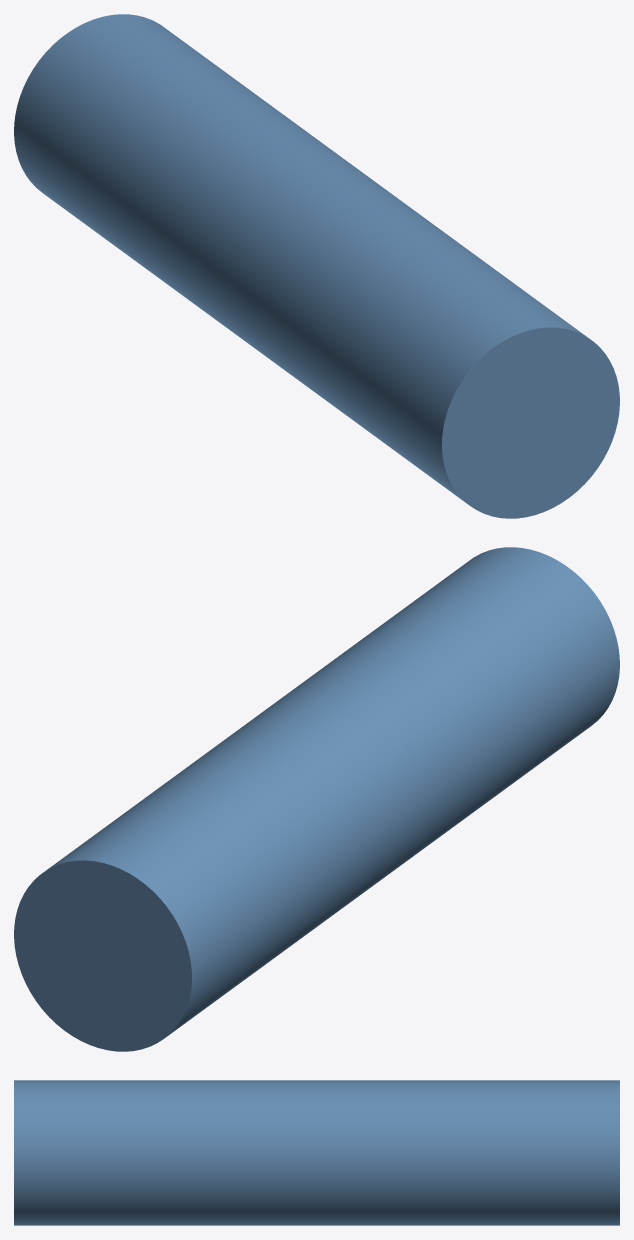
The model's file is step_01.glb.
The picture shows the model from 3 angles, top to bottom: view 1: azimuth 30°, elevation 25°; view 2: azimuth 150°, elevation 25°; view 3: azimuth 270°, elevation 25°; orthographic projection. The views are drawn at different scales.
Parts seen in each view (by area): view 1: part__AAA cell; view 2: part__AAA cell; view 3: part__AAA cell.
Boxes of the visible parts, <box> form: part__AAA cell: <box>14,14,619,518</box>; part__AAA cell: <box>14,547,619,1051</box>; part__AAA cell: <box>14,1080,619,1225</box>.
Bounding box in the file's own units: 10.5 × 10.49 × 43.7.
